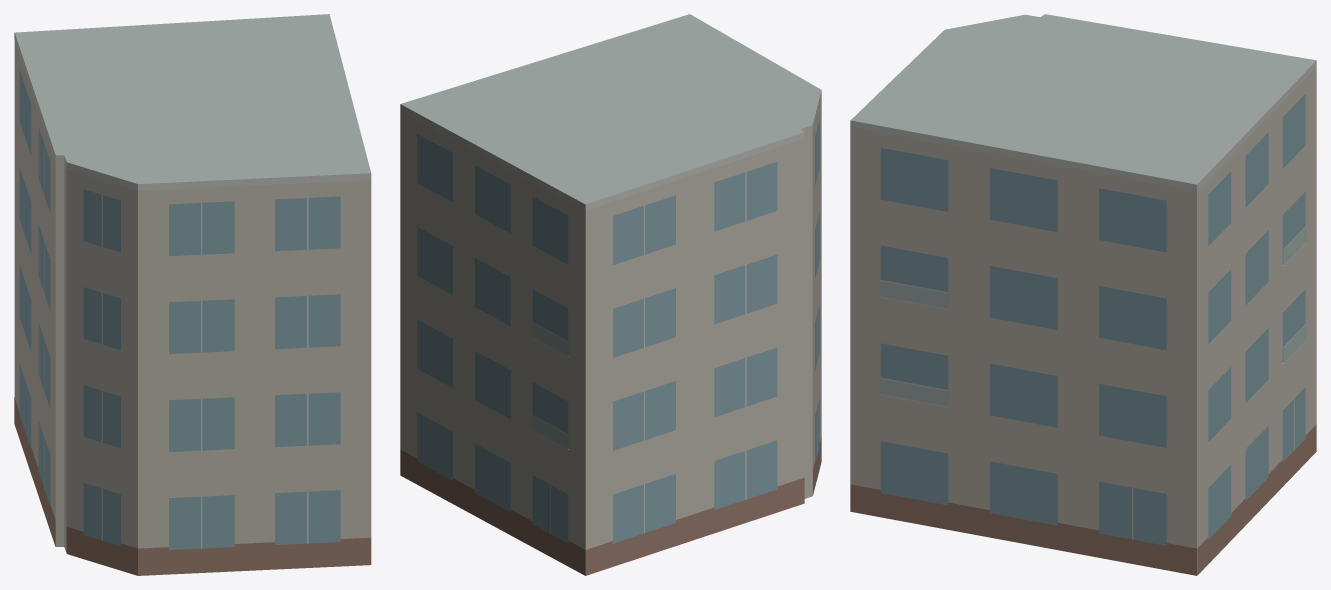
The model's file is survey-upis-32750382.glb.
The picture shows the model from 3 angles, left to right: view 1: azimuth 30°, elevation 25°; view 2: azimuth 150°, elevation 25°; view 3: azimuth 270°, elevation 25°; orthographic projection. The views are drawn at different scales.
Parts seen in each view (by area): view 1: survey-upis-32750382.tmp; view 2: survey-upis-32750382.tmp; view 3: survey-upis-32750382.tmp.
Part boxes in pixels (box(x1,y1,x2,y2)): survey-upis-32750382.tmp: box(14, 14, 371, 575); survey-upis-32750382.tmp: box(400, 14, 821, 575); survey-upis-32750382.tmp: box(850, 14, 1316, 575).
Bounding box in the file's own units: 13.29 × 14.2 × 15.34.
